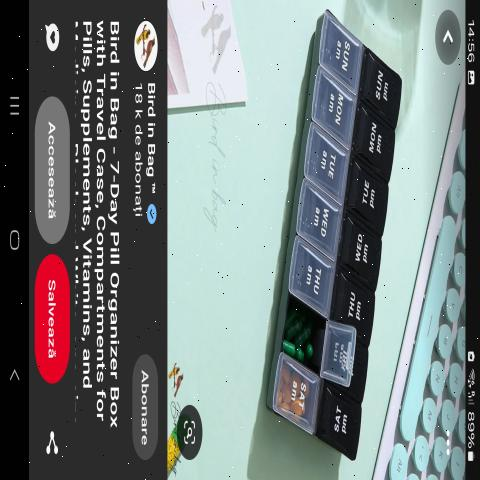PillBox: (252, 14, 414, 472)
